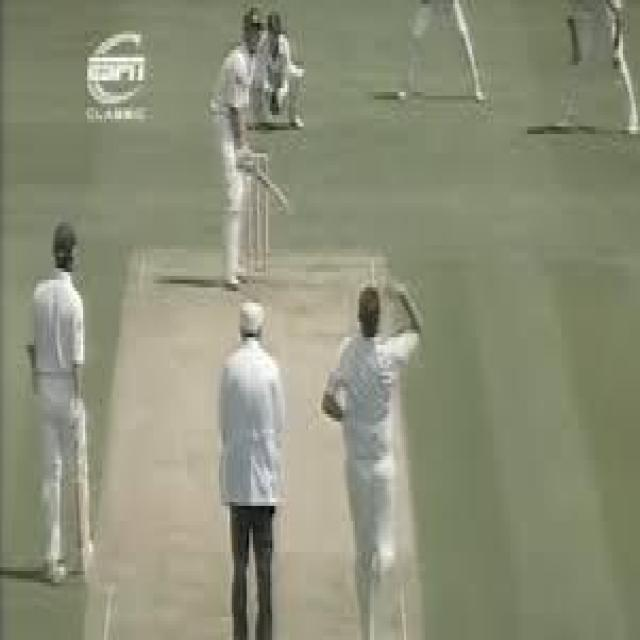bat: (250, 162, 286, 213)
